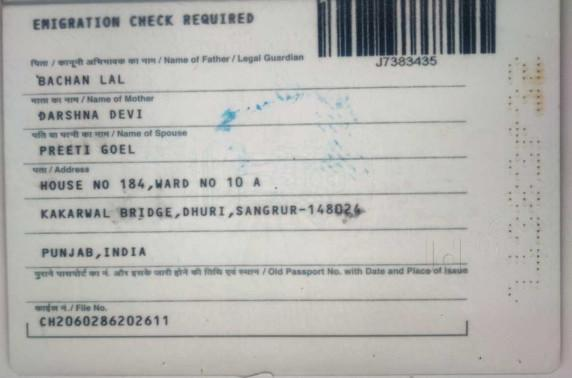File_no: (28, 312, 188, 338)
address: (27, 174, 384, 261)
father_name: (33, 68, 133, 89)
mother_name: (31, 106, 158, 127)
passport_no: (369, 55, 447, 75)
spouse_name: (29, 139, 145, 159)
